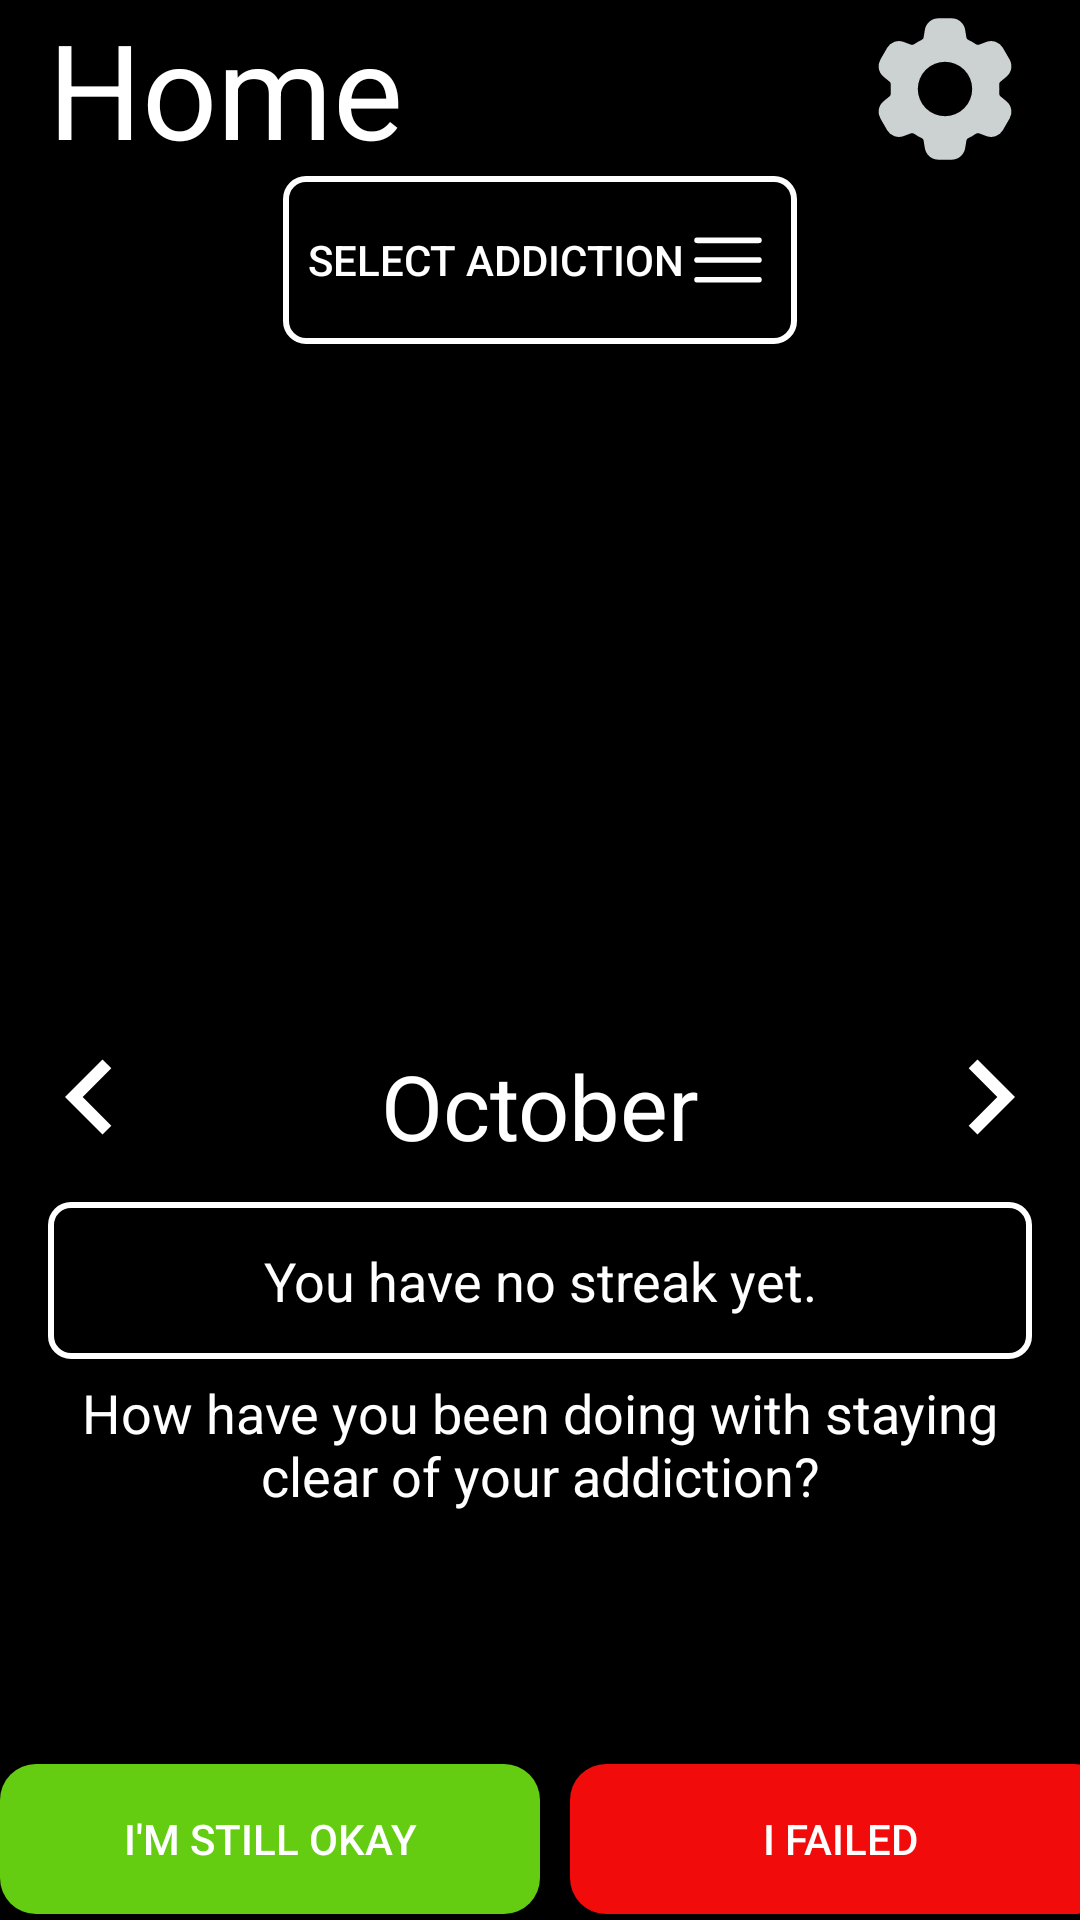

Where icons sit on this 1080px×1920px app screen, as (x1, y1, x2, y2):
bars: (694, 237, 762, 283)
gear: (878, 18, 1012, 160)
month left: (65, 1059, 111, 1135)
month right: (969, 1059, 1015, 1135)
